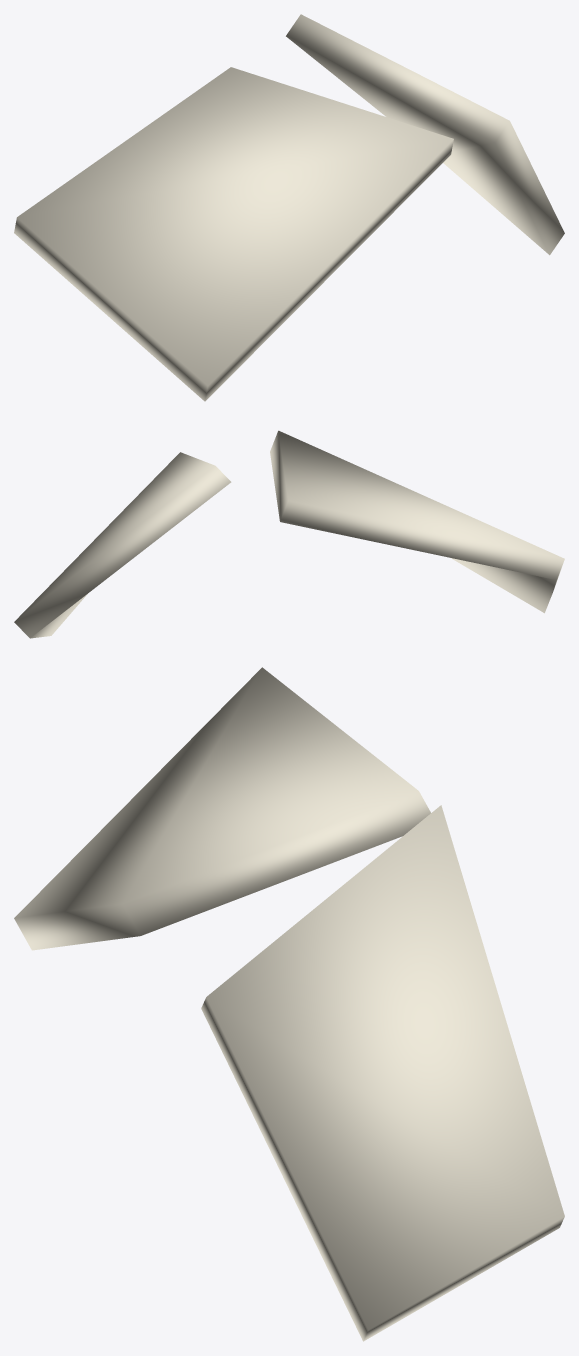
3 views of the same model, one above another, from view 1: azimuth 30°, elevation 25°; view 2: azimuth 150°, elevation 25°; view 3: azimuth 270°, elevation 25° (orthographic). The views are drawn at different scales.
Visible parts, largest first — view 1: ZA_423b104ef10839e9; view 2: ZA_423b104ef10839e9; view 3: ZA_423b104ef10839e9.
Part boxes in pixels (<box>): ZA_423b104ef10839e9: <box>14,14,564,401</box>; ZA_423b104ef10839e9: <box>14,430,564,638</box>; ZA_423b104ef10839e9: <box>14,667,564,1341</box>.
Size of the model in its own units: 0.0125 by 0.0056 by 0.00726.
